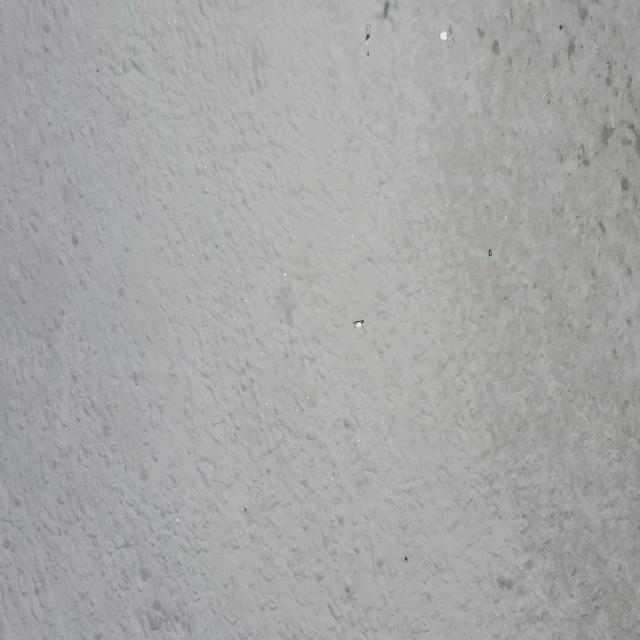glass: (439, 29, 455, 43), (366, 22, 372, 57), (354, 320, 364, 328), (488, 249, 495, 258)
